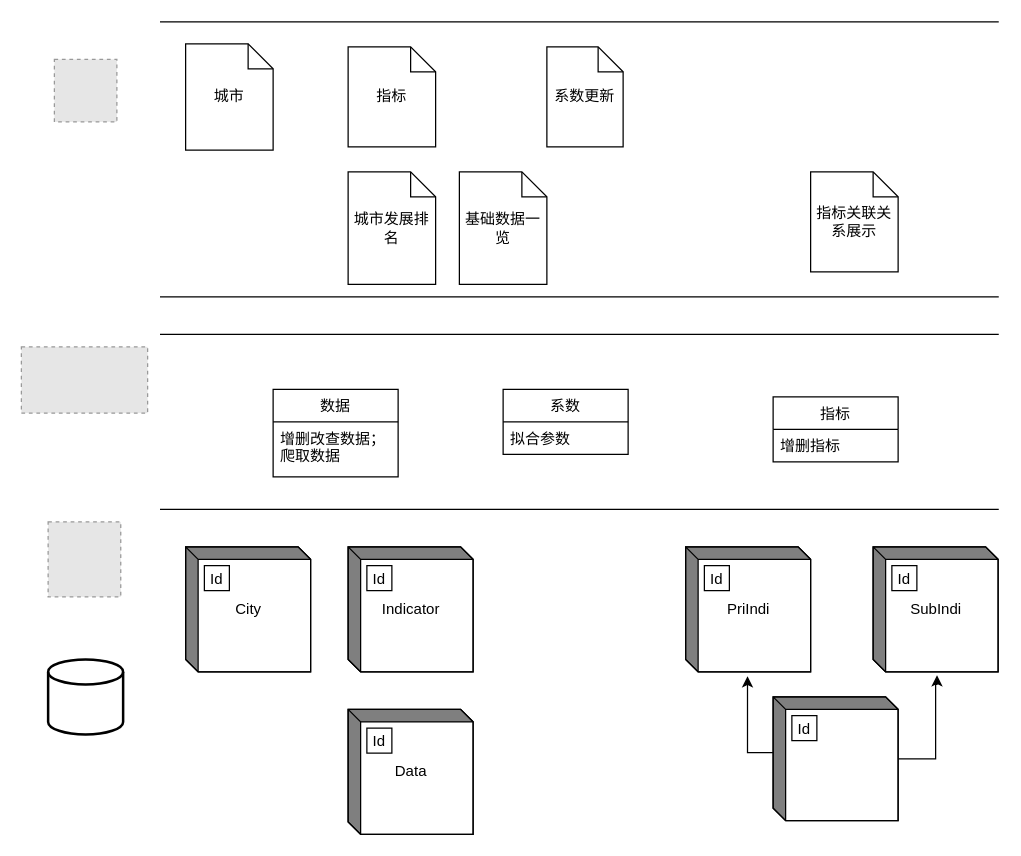
Some shapes in this 1021 by 856 pixel diagram are drawn without their labels. Grey dashed boxes stand in for pictures. Each missing label, with the centre of its shape:
Postgres: pixel 85 696
PriToSub: pixel 835 758
